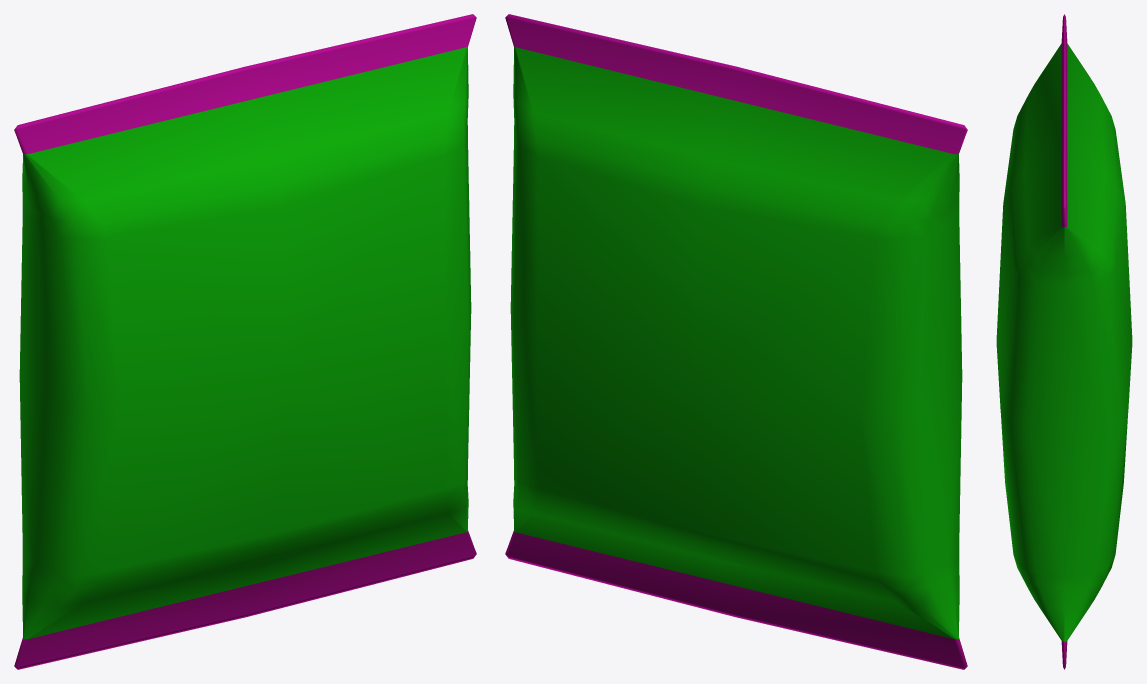
Rendered from Ramen.fbx.
3 views of the same model, side by side, from view 1: azimuth 30°, elevation 25°; view 2: azimuth 150°, elevation 25°; view 3: azimuth 270°, elevation 25° (orthographic). The views are drawn at different scales.
Visible parts, largest first — view 1: ramyeon; view 2: ramyeon; view 3: ramyeon.
Part boxes in pixels (<box>): ramyeon: <box>14,14,476,669</box>; ramyeon: <box>505,14,967,669</box>; ramyeon: <box>996,14,1132,669</box>.
Size of the model in its own units: 23.37 by 6.96 by 26.61.
